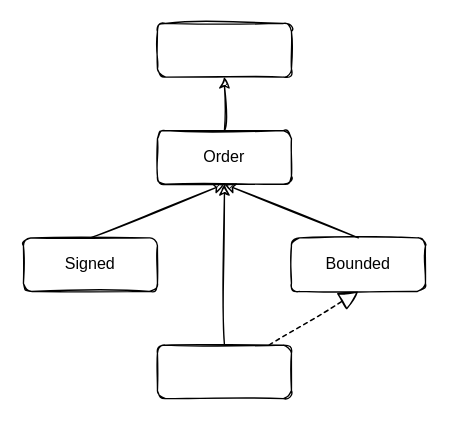
The diagram is 449 pixels wide and 422 high, and some of its shapes have lost their labels. The shapes that lost their labels are listed below. From the top down, each one's centre as x and y in pixels, then its label:
At (223,49): "Equal".
At (223,371): "Enum".
